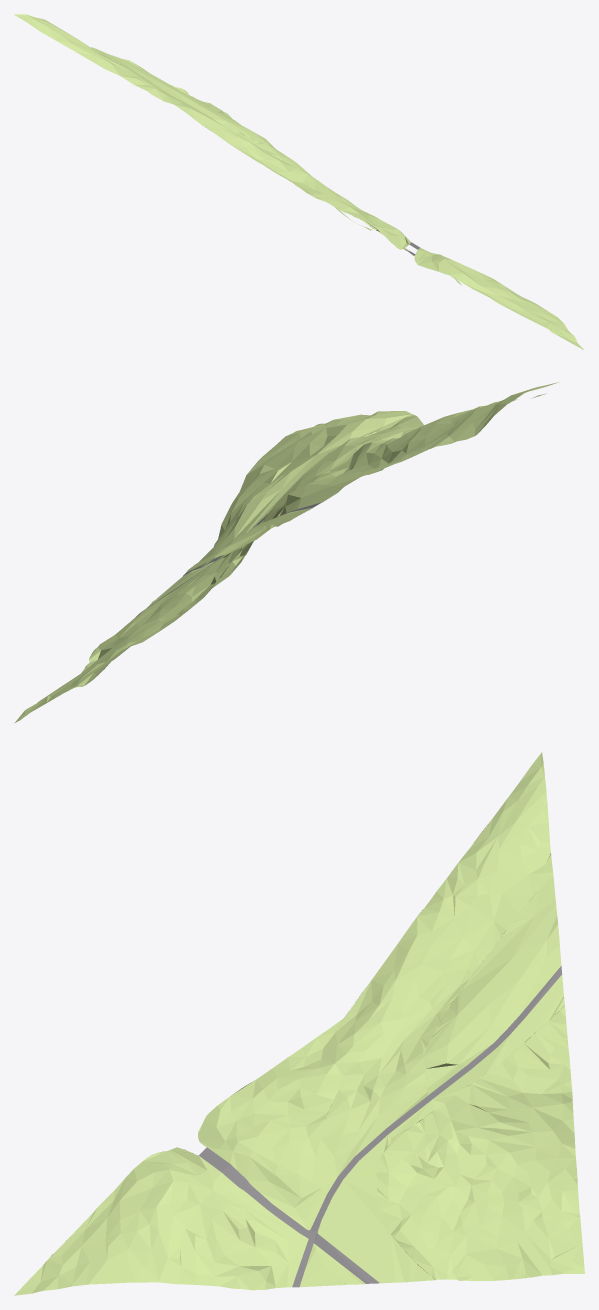
3 views of the same model, one above another, from view 1: azimuth 30°, elevation 25°; view 2: azimuth 150°, elevation 25°; view 3: azimuth 270°, elevation 25° (orthographic). The views are drawn at different scales.
Size of the model in its own units: 160 by 116 by 179.
